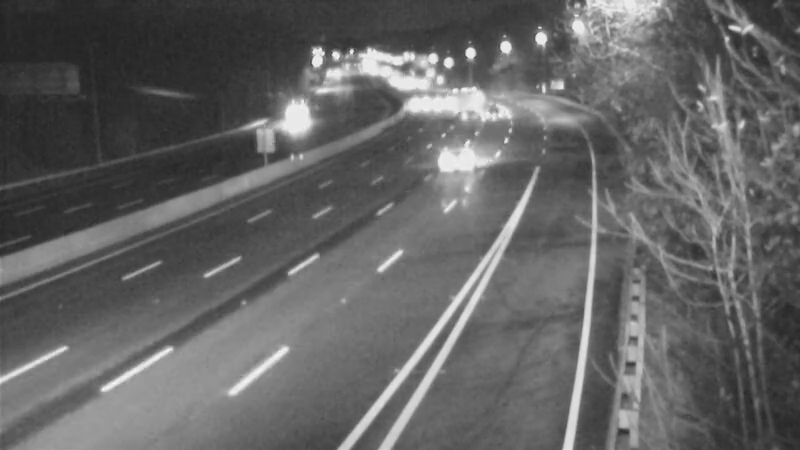vehicle: (419, 119, 499, 199), (461, 75, 511, 125), (396, 76, 446, 126), (439, 67, 489, 117), (467, 87, 517, 137), (276, 93, 326, 143)
